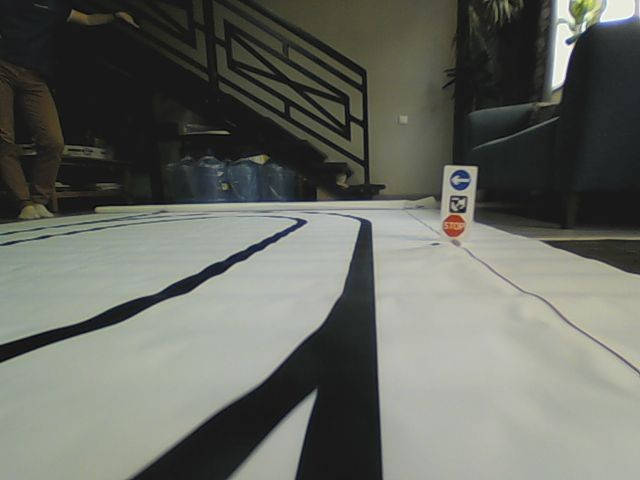Stop: (441, 214, 467, 238)
